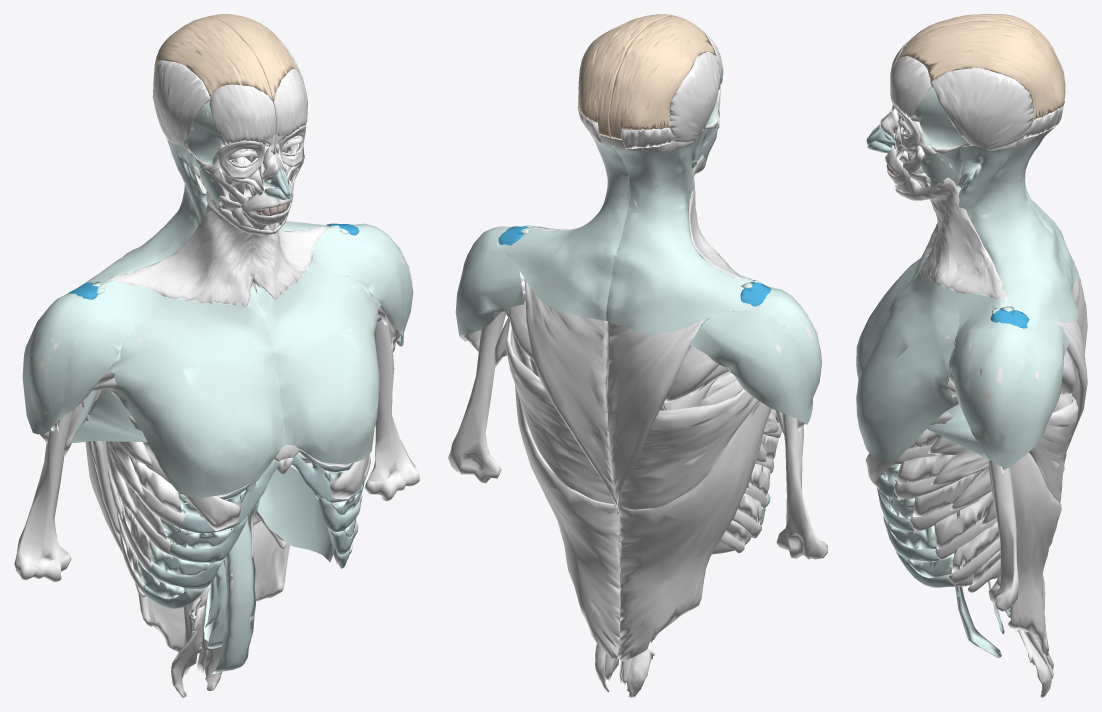
Rendered from cervical.glb.
3 views of the same model, side by side, from view 1: azimuth 30°, elevation 25°; view 2: azimuth 150°, elevation 25°; view 3: azimuth 270°, elevation 25° (orthographic). The views are drawn at different scales.
Visible parts, largest first — view 1: Pectoral fascia.r, Pectoral fascia.l, Deltoid fascia.r, Platysma.r, Deltoid fascia.l, Epicranial aponeurosis.r, Humerus.r, Superficial investing cervical fascia.r, Diaphragmatic fascia, Humerus.l, Anterior longitudinal ligament, Platysma.l (+26 smaller); view 2: Latissimus dorsi muscle.r, Superficial investing cervical fascia.r, Latissimus dorsi muscle.l, Deltoid fascia.r, Superficial investing cervical fascia.l, Descending part of trapezius muscle.l, Descending part of trapezius muscle.r, Epicranial aponeurosis.r, Deltoid fascia.l, Humerus.l, Epicranial aponeurosis.l, Humerus.r (+8 smaller); view 3: Deltoid fascia.l, Pectoral fascia.l, Superficial investing cervical fascia.l, Latissimus dorsi muscle.l, Epicranial aponeurosis.l, Temporoparietalis muscle.l, Platysma.l, External intercostal muscles.l, Humerus.l, Serratus anterior muscle.l, External intercostal membrane.l, Pectoral fascia.r (+24 smaller).
Boxes of the visible parts, x1,y1,x2,y2 form: Pectoral fascia.r: (106, 298, 285, 498); Pectoral fascia.l: (260, 262, 381, 464); Deltoid fascia.r: (22, 281, 166, 434); Platysma.r: (109, 191, 273, 306); Deltoid fascia.l: (313, 223, 413, 346); Epicranial aponeurosis.r: (153, 17, 273, 101); Humerus.r: (14, 410, 72, 582); Superficial investing cervical fascia.r: (68, 134, 259, 307); Diaphragmatic fascia: (254, 465, 335, 562); Humerus.l: (364, 320, 419, 501); Anterior longitudinal ligament: (211, 515, 255, 674); Platysma.l: (251, 214, 325, 300); Latissimus dorsi muscle.r: (617, 389, 771, 661); Superficial investing cervical fascia.r: (606, 128, 767, 334); Latissimus dorsi muscle.l: (506, 318, 620, 658); Deltoid fascia.r: (689, 265, 821, 424); Superficial investing cervical fascia.l: (496, 134, 628, 320); Descending part of trapezius muscle.l: (524, 279, 618, 507); Descending part of trapezius muscle.r: (607, 318, 709, 508); Epicranial aponeurosis.r: (609, 15, 716, 140); Deltoid fascia.l: (455, 226, 558, 341); Humerus.l: (448, 311, 505, 483); Epicranial aponeurosis.l: (578, 14, 673, 137); Humerus.r: (776, 413, 827, 559); Deltoid fascia.l: (950, 293, 1069, 467); Pectoral fascia.l: (856, 273, 959, 462); Superficial investing cervical fascia.l: (919, 126, 1078, 330); Latissimus dorsi muscle.l: (988, 396, 1078, 656); Epicranial aponeurosis.l: (896, 20, 1065, 119); Temporoparietalis muscle.l: (930, 68, 1033, 149); Platysma.l: (895, 177, 1007, 300); External intercostal muscles.l: (897, 429, 1000, 585); Humerus.l: (988, 459, 1019, 611); Serratus anterior muscle.l: (928, 410, 996, 526); External intercostal membrane.l: (878, 464, 954, 578); Pectoral fascia.r: (856, 258, 920, 380).
Bounding box in the file's own units: 0.4977 × 0.8225 × 0.2571.
